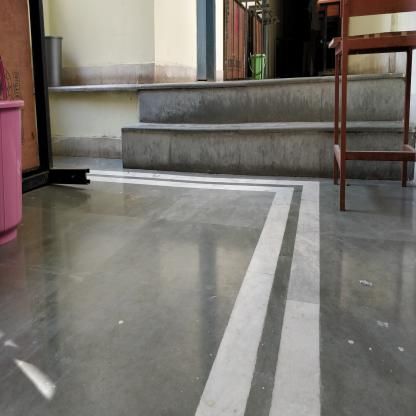stairs: (142, 77, 334, 182)
